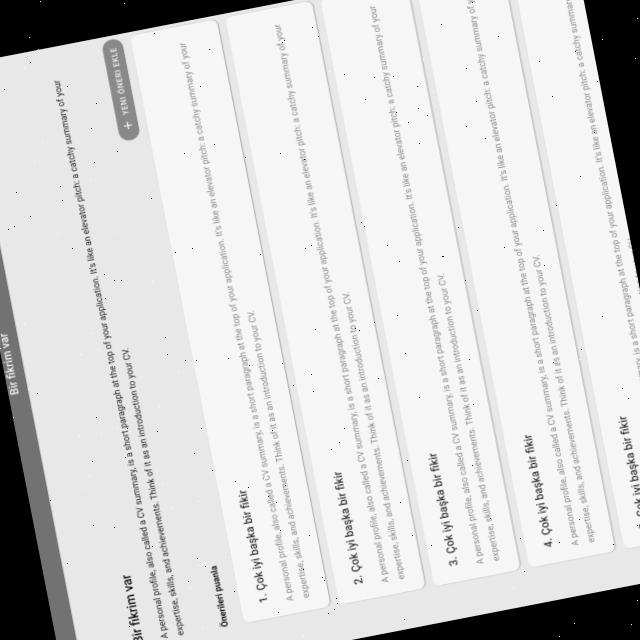QLabel: (49, 71, 189, 640), (365, 0, 505, 569), (175, 35, 314, 604), (270, 16, 408, 588), (460, 0, 601, 549), (552, 0, 640, 533), (330, 466, 367, 589), (424, 448, 461, 570), (520, 430, 556, 550), (236, 487, 270, 605), (616, 413, 640, 532), (117, 568, 147, 640), (205, 562, 232, 630), (0, 330, 23, 401), (108, 46, 130, 116)
VAppBar: (0, 63, 86, 640)
VBtn: (100, 36, 141, 141)
VCard: (128, 15, 333, 622), (223, 0, 428, 605), (318, 0, 522, 586), (414, 0, 617, 565), (509, 0, 640, 550)
VIcon: (122, 119, 134, 130)
